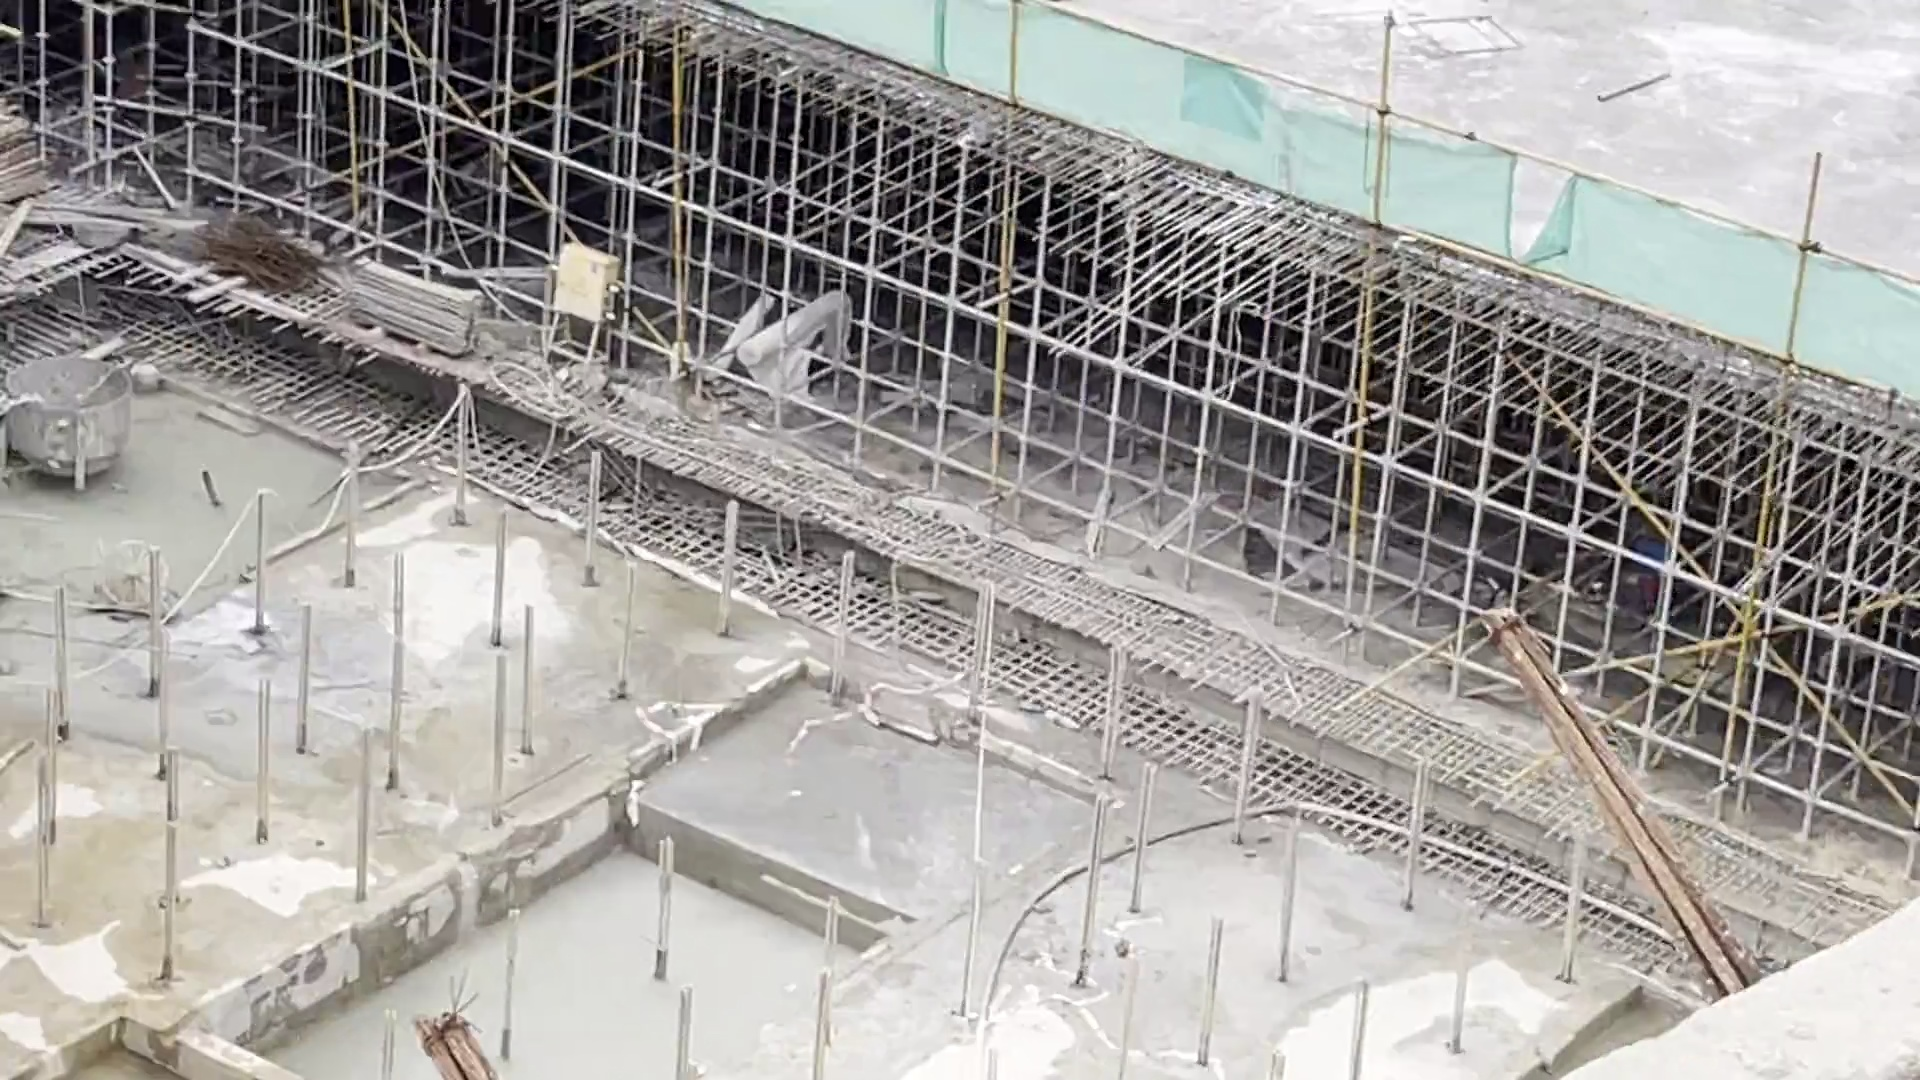ebox: (550, 235, 629, 324)
